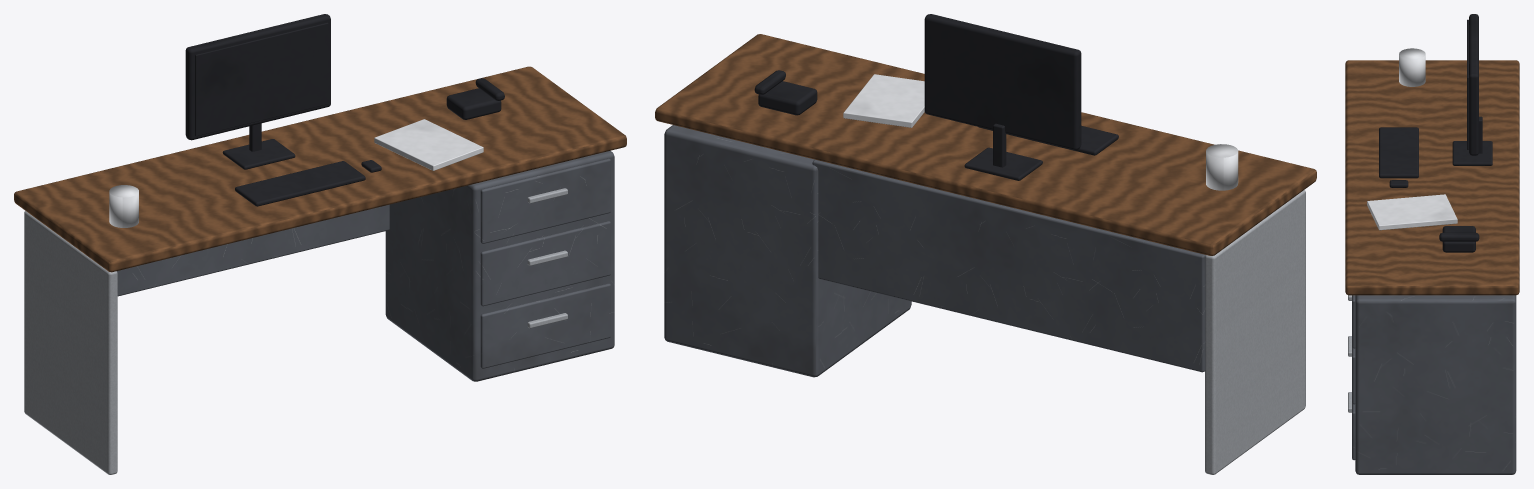
The model's file is OfficeDesk.fbx.
3 views of the same model, side by side, from view 1: azimuth 30°, elevation 25°; view 2: azimuth 150°, elevation 25°; view 3: azimuth 270°, elevation 25° (orthographic). The views are drawn at different scales.
Visible parts, largest first — view 1: OfficeDesk_MetalGrey, OfficeDesk_Wood, OfficeDesk_Steel, OfficeDesk_PlasticDark_glow, OfficeDesk_PlasticDark, OfficeDesk_PlasticWhite; view 2: OfficeDesk_MetalGrey, OfficeDesk_Wood, OfficeDesk_Steel, OfficeDesk_PlasticDark, OfficeDesk_PlasticWhite; view 3: OfficeDesk_Wood, OfficeDesk_MetalGrey, OfficeDesk_PlasticDark, OfficeDesk_PlasticWhite, OfficeDesk_PlasticDark_glow.
Part boxes in pixels (bbox=[...]): OfficeDesk_MetalGrey: bbox=[117, 150, 614, 381]; OfficeDesk_Wood: bbox=[14, 66, 626, 272]; OfficeDesk_Steel: bbox=[24, 188, 567, 474]; OfficeDesk_PlasticDark_glow: bbox=[195, 22, 328, 136]; OfficeDesk_PlasticDark: bbox=[185, 14, 504, 206]; OfficeDesk_PlasticWhite: bbox=[109, 119, 483, 227]; OfficeDesk_MetalGrey: bbox=[664, 125, 1205, 377]; OfficeDesk_Wood: bbox=[655, 34, 1316, 255]; OfficeDesk_Steel: bbox=[1205, 190, 1305, 474]; OfficeDesk_PlasticDark: bbox=[754, 14, 1118, 180]; OfficeDesk_PlasticWhite: bbox=[843, 74, 1238, 190]; OfficeDesk_Wood: bbox=[1345, 60, 1519, 295]; OfficeDesk_MetalGrey: bbox=[1352, 295, 1516, 474]; OfficeDesk_PlasticDark: bbox=[1379, 14, 1492, 252]; OfficeDesk_PlasticWhite: bbox=[1367, 48, 1457, 230]; OfficeDesk_PlasticDark_glow: bbox=[1467, 19, 1468, 149].
Size of the model in its own units: 800 by 507 by 260.
6 materials, 6 textured.
